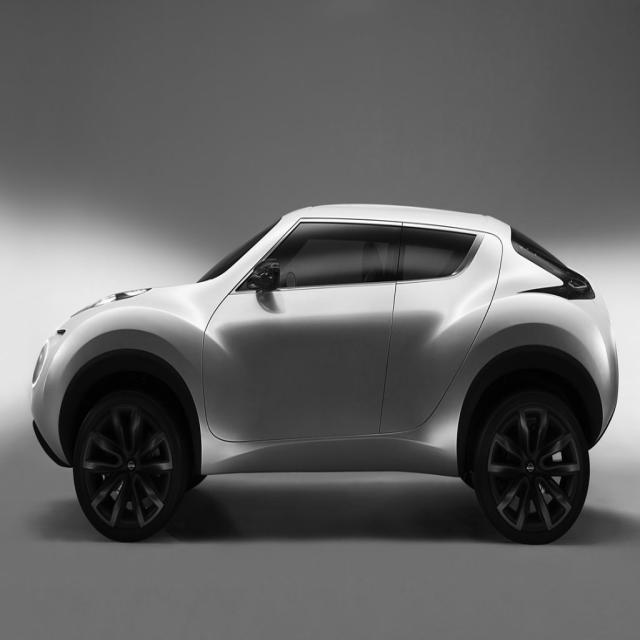car: (30, 201, 619, 546)
